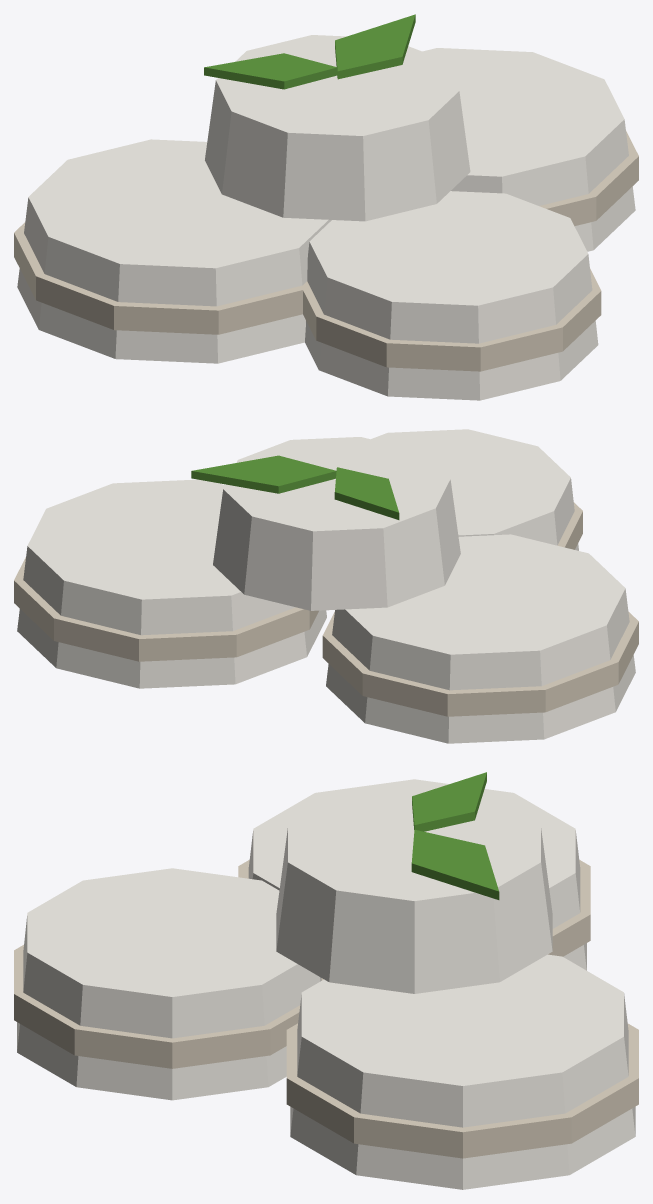
The model's file is goatCheese.glb.
3 renders of one model, top to bottom at view 1: azimuth 30°, elevation 25°; view 2: azimuth 150°, elevation 25°; view 3: azimuth 270°, elevation 25°, orthographic. The views are drawn at different scales.
Parts seen in each view (by area): view 1: goatCheese; view 2: goatCheese; view 3: goatCheese.
Part boxes in pixels (box(x1,y1,x2,y2)): goatCheese: box(14, 14, 638, 400); goatCheese: box(14, 429, 638, 743); goatCheese: box(14, 772, 638, 1189).
Size of the model in its own units: 0.313 by 0.094 by 0.2582.
1 material, 1 textured.
